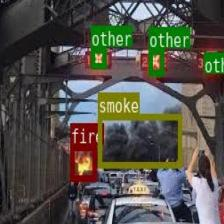fire: (70, 144, 96, 179)
smoke: (97, 113, 181, 167)
